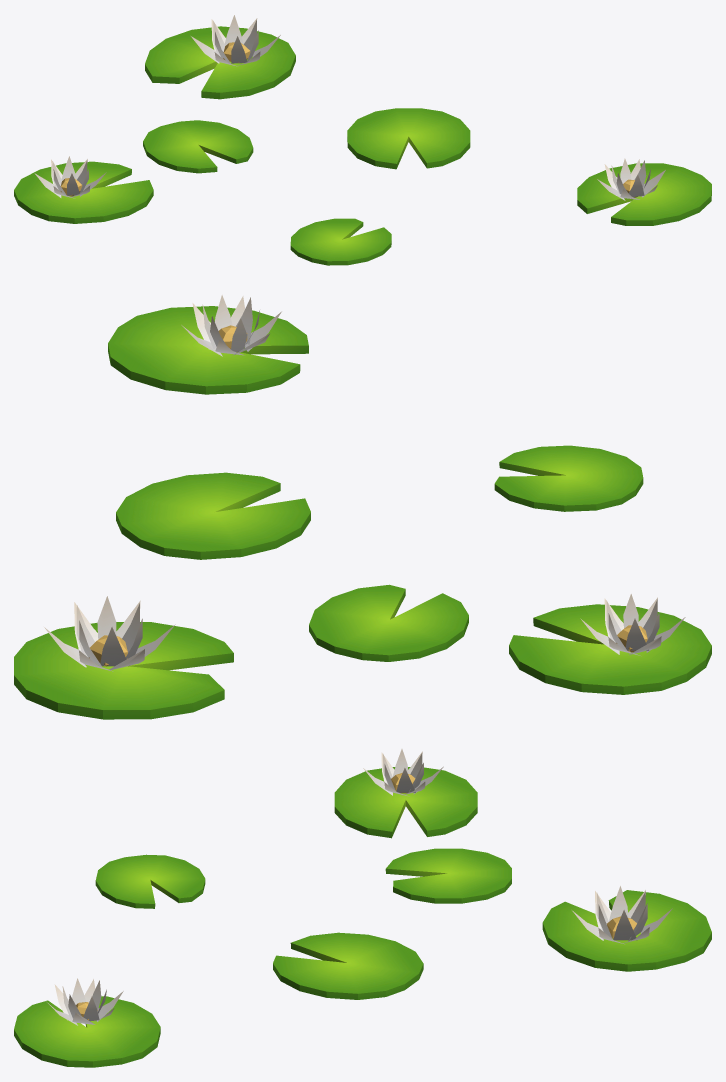
The picture shows the model from 3 angles, top to bottom: view 1: azimuth 30°, elevation 25°; view 2: azimuth 150°, elevation 25°; view 3: azimuth 270°, elevation 25°; orthographic projection. The views are drawn at different scales.
Parts seen in each view (by area): view 1: WaterLilies; view 2: WaterLilies; view 3: WaterLilies.
Part boxes in pixels (left/top/right/bottom): WaterLilies: left=14, top=15, right=711, bottom=265; WaterLilies: left=14, top=295, right=711, bottom=719; WaterLilies: left=14, top=749, right=711, bottom=1067.
Size of the model in its own units: 4.31 by 0.3023 by 4.32.
1 material, 1 textured.
